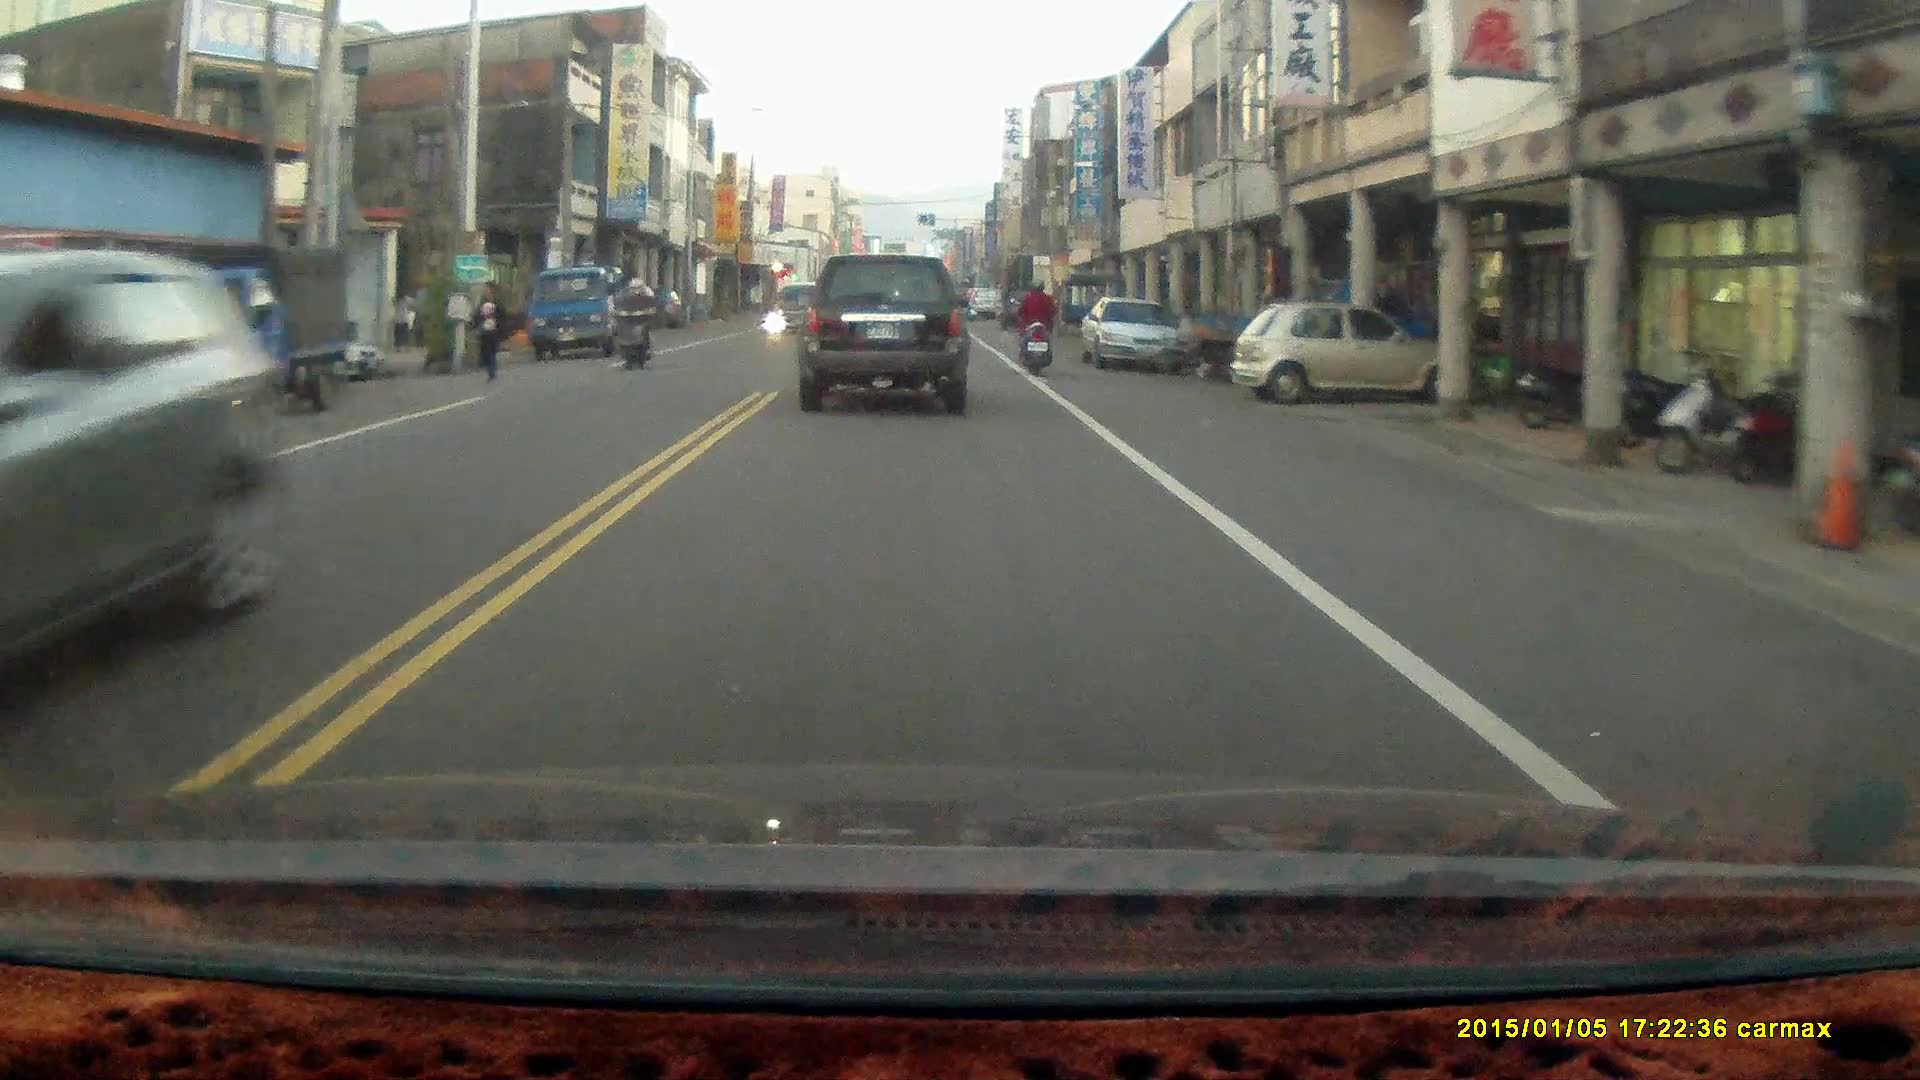pedestrian: (471, 277, 511, 382)
rider: (610, 275, 659, 369), (1016, 274, 1055, 373)
vehicle: (1, 250, 290, 703), (125, 237, 353, 443), (794, 250, 973, 417), (1235, 301, 1471, 403), (531, 263, 661, 359), (1082, 298, 1187, 374)
